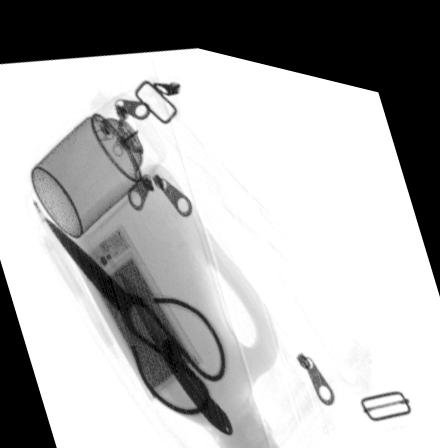Knife: (120, 265, 232, 422)
Powerbank: (73, 219, 203, 393)
Scissors: (40, 209, 225, 406)
Sprayer: (29, 86, 166, 235)
